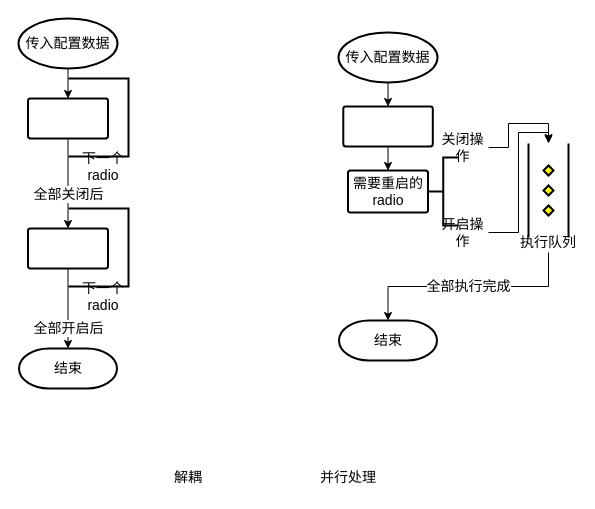
The diagram is 595 pixels wide and 509 high, and some of its shapes have lost their labels. Each missing label, with the centre of its shape:
"netifd解析检测" belongs at (x=387, y=126).
"关闭一个radio" belongs at (x=67, y=118).
"开启一个radio" belongs at (x=67, y=248).
